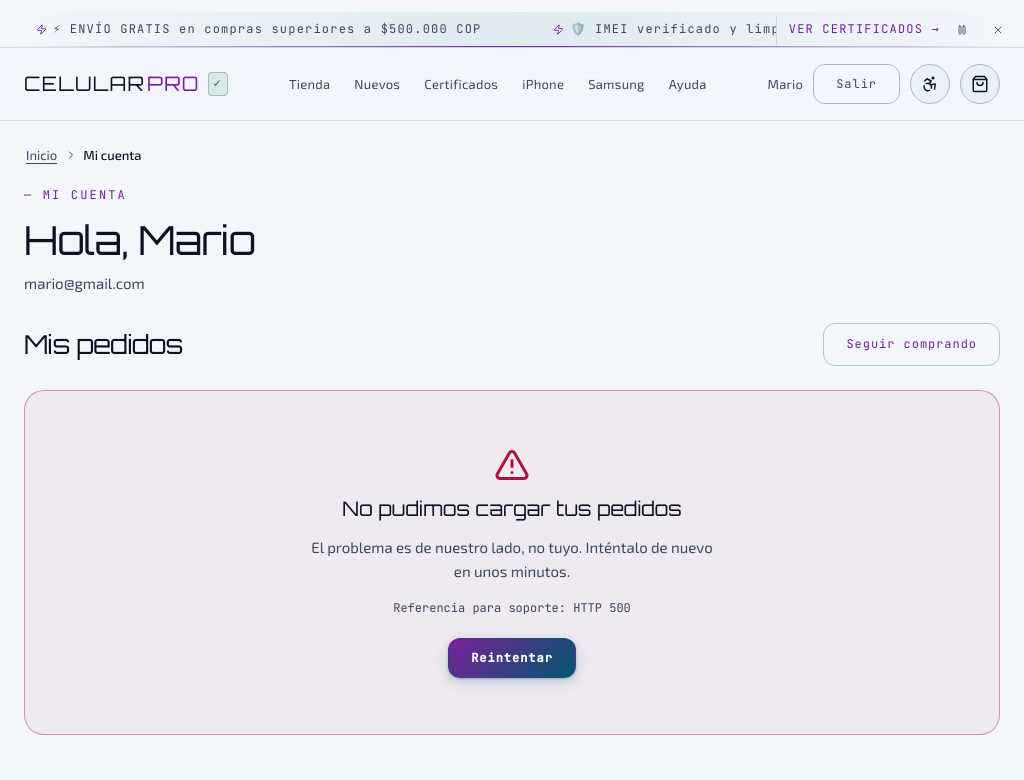
Test case: Fallos al consultar listados › "Reintentar" vuelve a pedir los pedidos y los muestra cuando el servidor ya responde
Expected: the heading "No pudimos cargar tus pedidos" is shown, [342, 493, 682, 525]
Click the button "Reintentar" at (512, 658), box [448, 638, 576, 678]
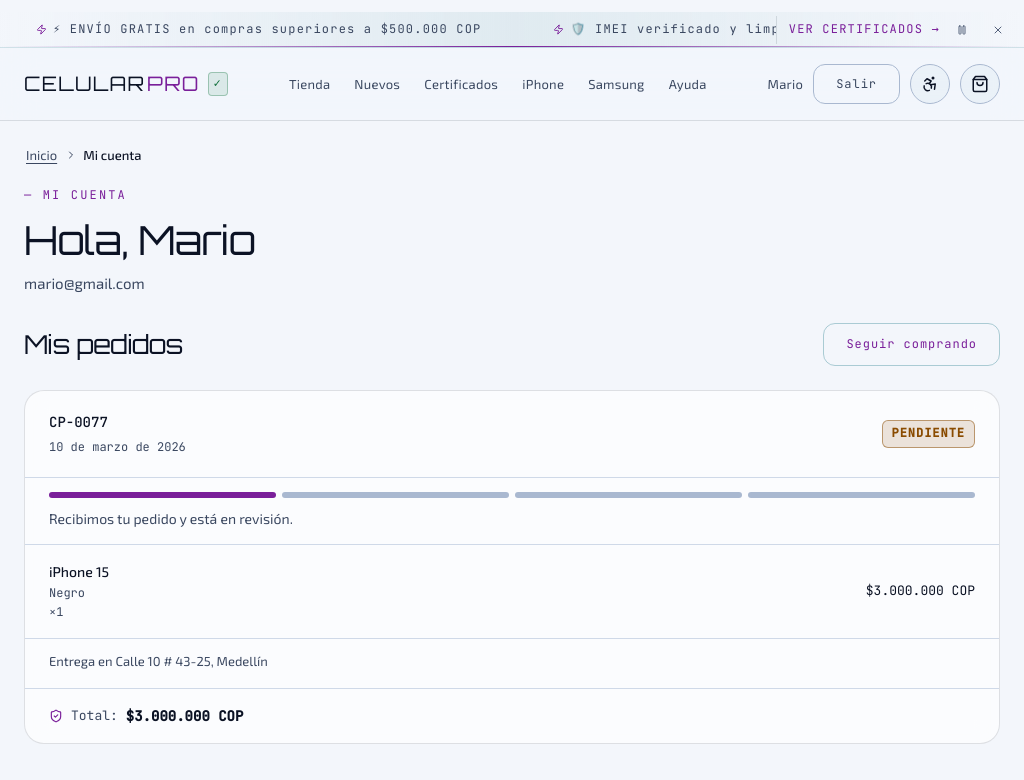
Expected: the heading "CP-0077" is shown, [49, 413, 108, 431]
Expected: the heading "No pudimos cargar tus pedidos" is gone
